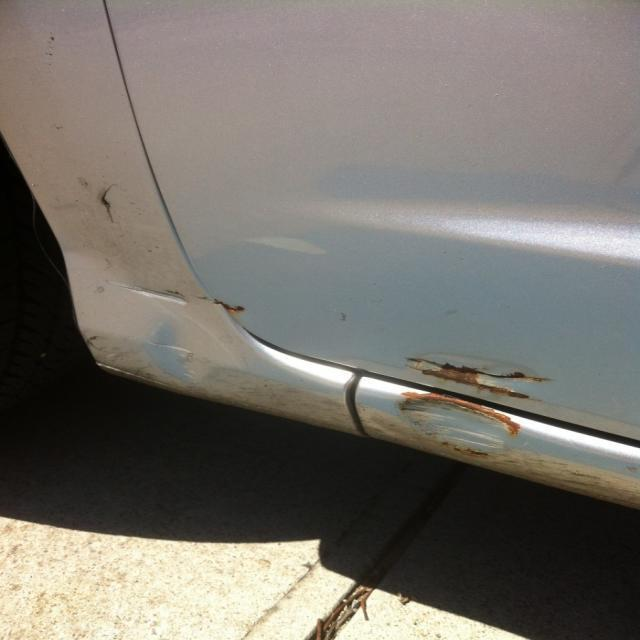scratch: (87, 179, 272, 383), (366, 334, 552, 478)
